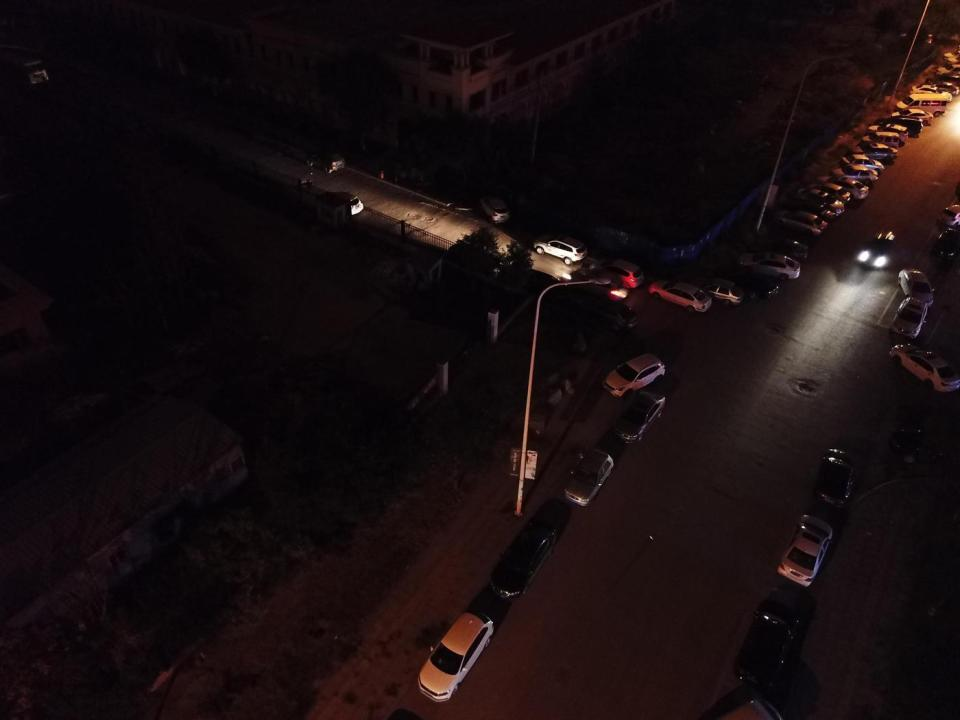car: (415, 604, 496, 703), (733, 598, 800, 696), (492, 519, 562, 600), (778, 513, 833, 588), (889, 341, 960, 394), (603, 347, 668, 398), (890, 423, 960, 466), (812, 446, 860, 507), (564, 450, 616, 506), (614, 390, 668, 442), (648, 279, 715, 314), (577, 293, 638, 330), (448, 241, 504, 276), (510, 263, 566, 298), (888, 296, 929, 340), (738, 252, 801, 280), (895, 266, 936, 309), (533, 232, 588, 264), (590, 257, 644, 289), (725, 268, 779, 300), (573, 266, 626, 298), (690, 276, 746, 306), (860, 230, 897, 271), (758, 234, 807, 264), (795, 188, 845, 216), (775, 209, 828, 235), (819, 176, 868, 200), (305, 148, 346, 174), (792, 200, 836, 224), (877, 115, 923, 137), (809, 182, 850, 206), (933, 226, 960, 262), (328, 190, 365, 216), (830, 165, 878, 185), (480, 195, 512, 224), (841, 155, 885, 176), (848, 144, 897, 161), (910, 84, 952, 103), (868, 124, 908, 143), (892, 110, 934, 127), (935, 204, 960, 227), (928, 80, 958, 98), (934, 64, 960, 78), (939, 72, 959, 84)
truck: (1, 50, 49, 87)
van: (898, 94, 947, 118), (862, 132, 900, 150)
